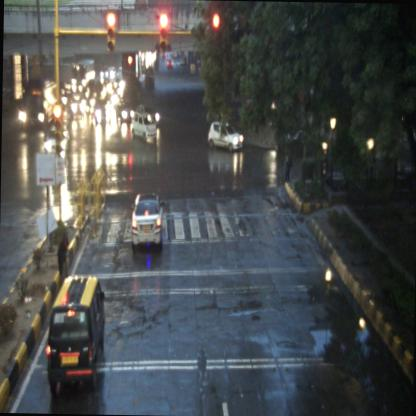bus: (19, 78, 56, 132), (73, 60, 94, 89)
car: (45, 273, 105, 391), (130, 190, 165, 251), (208, 121, 244, 150), (131, 112, 156, 140)
